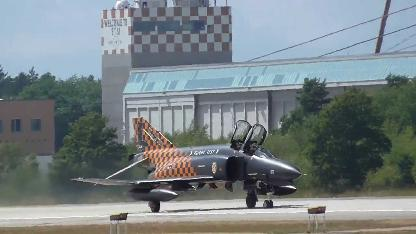F35: (70, 116, 306, 211)
